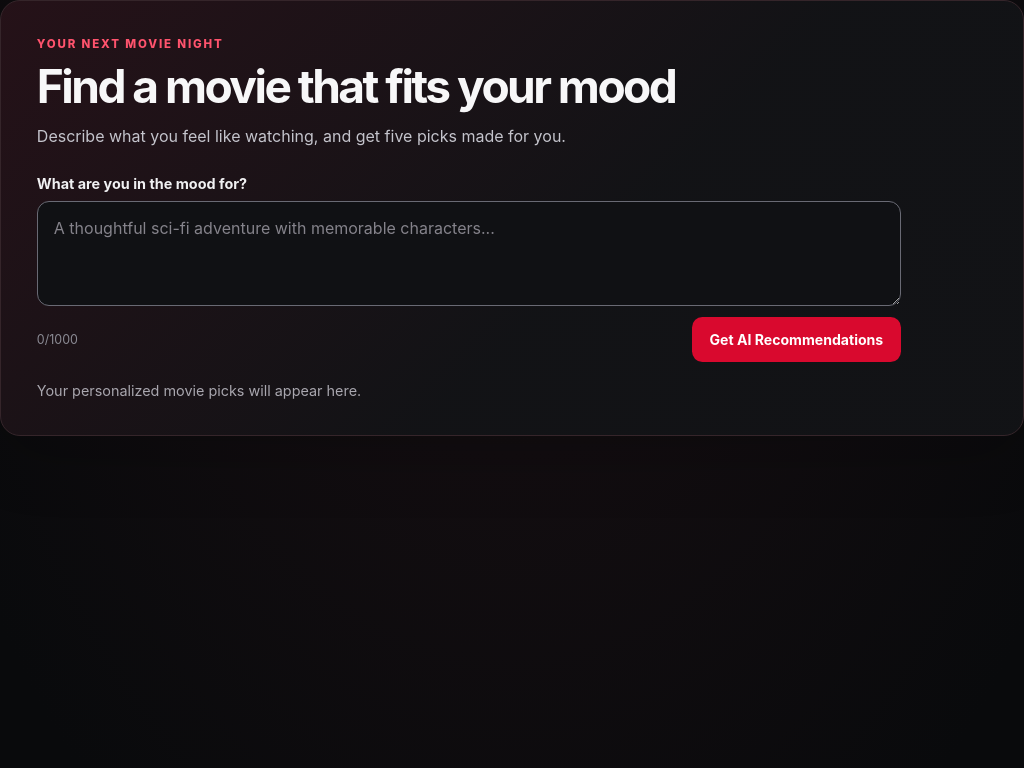
Test: AIRecommendationSection › shows loading and disables submit until the request completes
Later steps or results of the test are not shown.
Type "quiet mysteries" into the text box labelled "What are you in the mood for?" at {"x": 469, "y": 254}, box [37, 201, 901, 306]
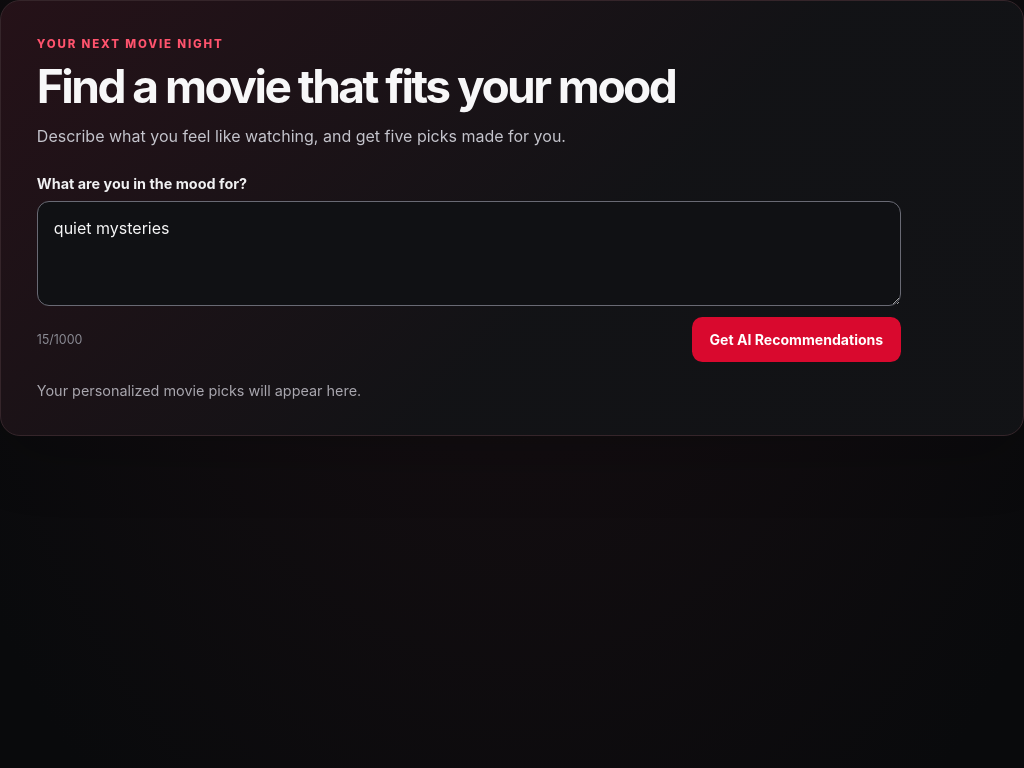
Click the button "Get AI Recommendations" at {"x": 796, "y": 339}, box [692, 316, 901, 362]
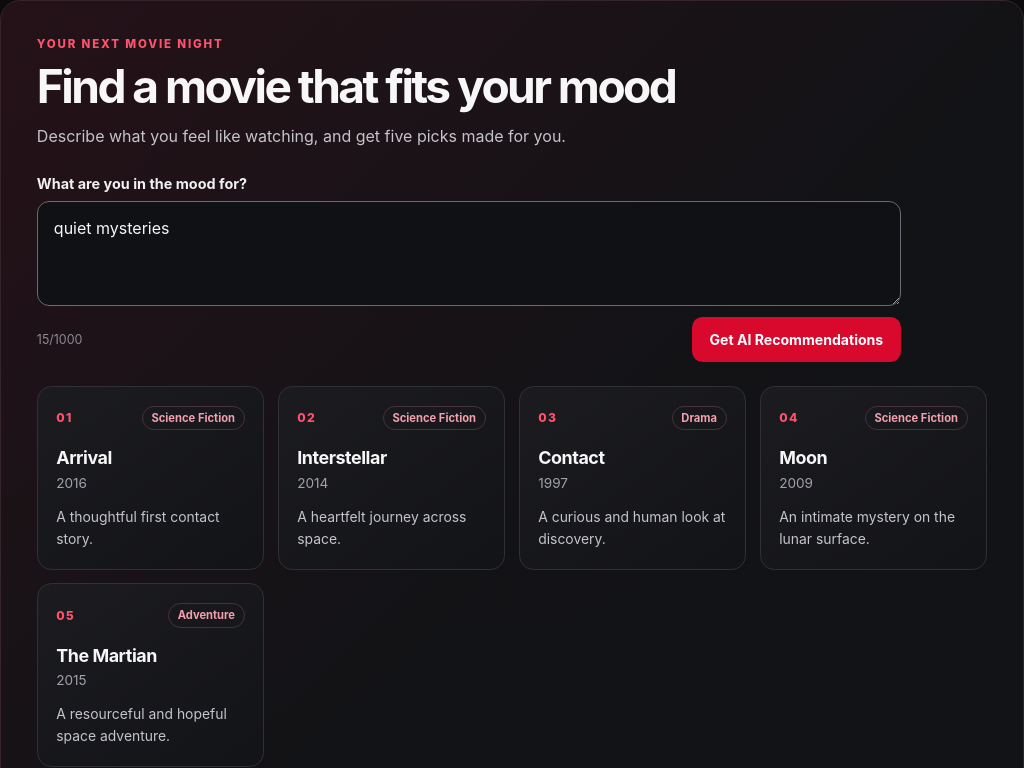
expect the heading "Arrival" is shown: met, box [56, 448, 112, 468]
